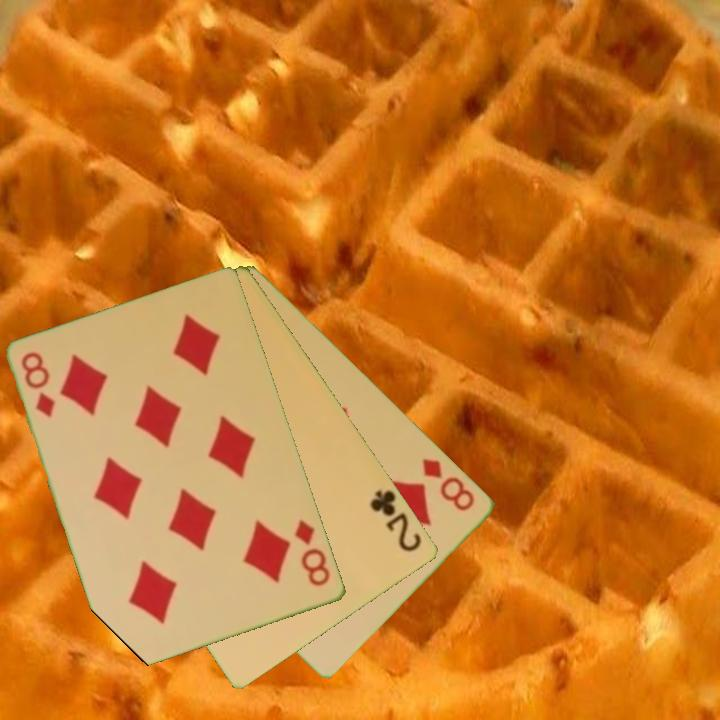2c: (367, 486, 425, 555)
8d: (419, 454, 478, 514), (291, 516, 334, 590), (18, 348, 59, 420)
